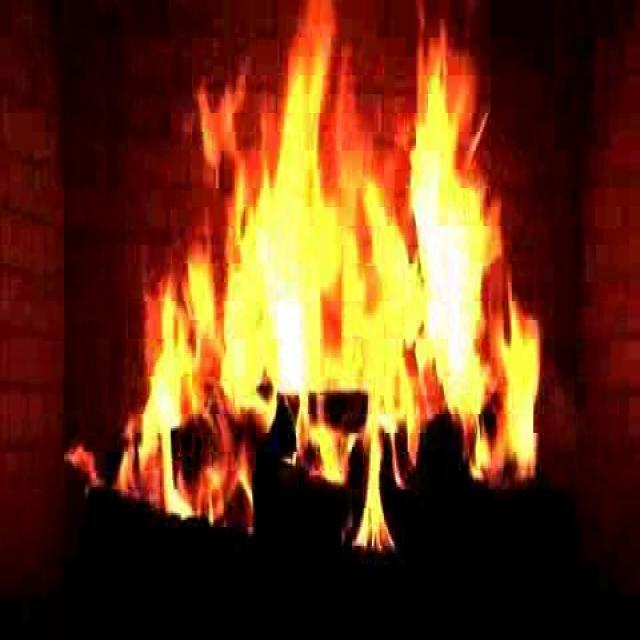Fire: (152, 38, 540, 554)
